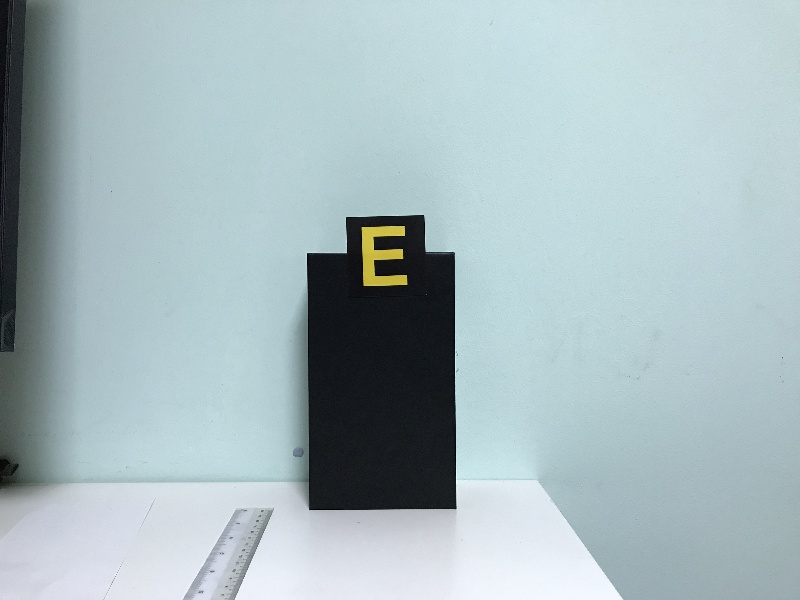E-15: (349, 220, 424, 294)
